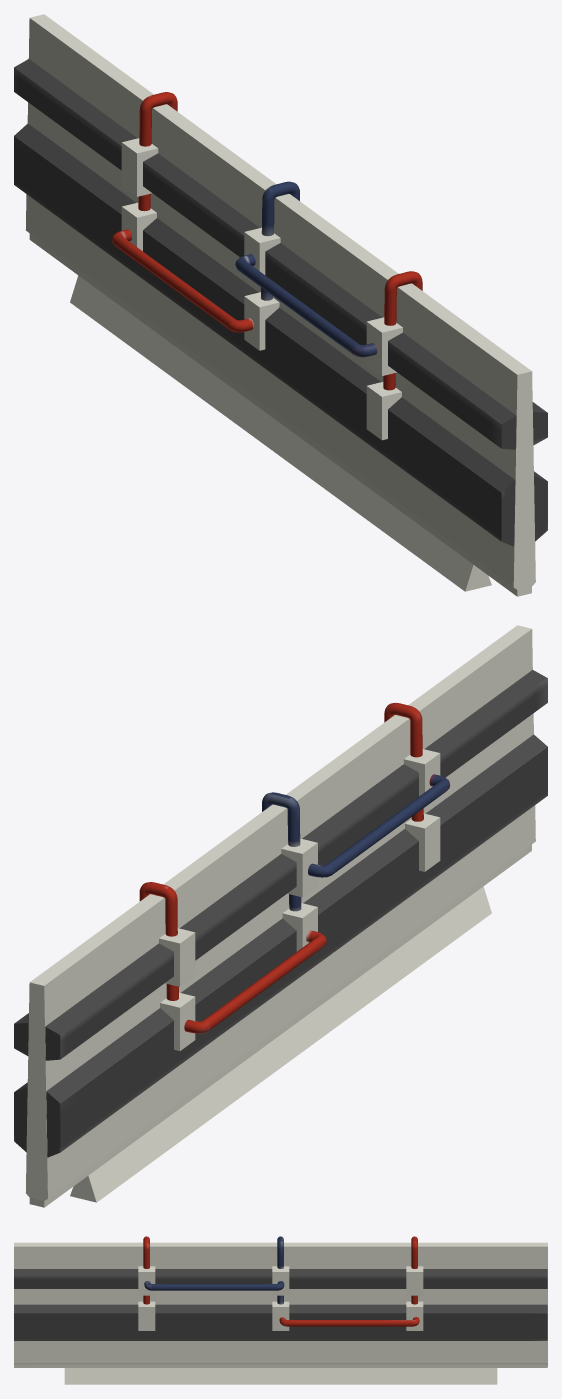
Rendered from Valla4.fbx.
3 renders of one model, top to bottom at view 1: azimuth 30°, elevation 25°; view 2: azimuth 150°, elevation 25°; view 3: azimuth 270°, elevation 25°, orthographic. The views are drawn at different scales.
Visible parts, largest first — view 1: Cube; view 2: Cube; view 3: Cube.
Boxes of the visible parts, x1,y1,x2,y2 form: Cube: [14, 14, 547, 596]; Cube: [14, 625, 547, 1207]; Cube: [14, 1236, 547, 1384].
Size of the model in its own units: 90.86 by 234 by 797.
Materials: 1 (1 with a texture image).
